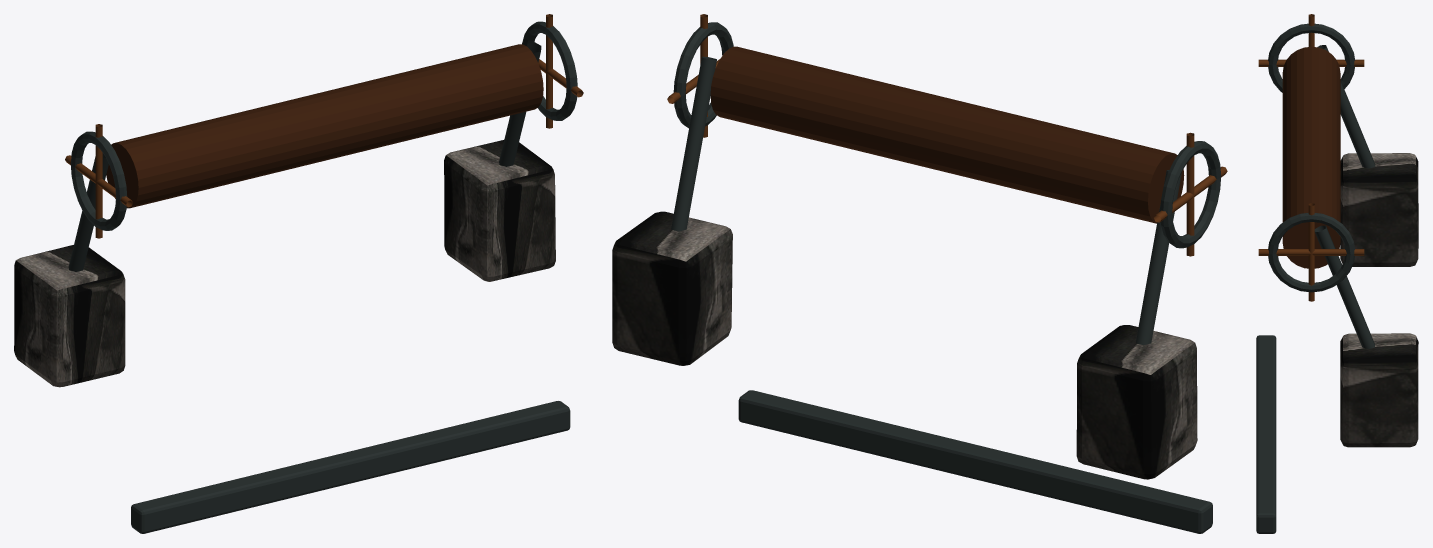
File: drawbridge_mechanism.glb
3 views of the same model, side by side, from view 1: azimuth 30°, elevation 25°; view 2: azimuth 150°, elevation 25°; view 3: azimuth 270°, elevation 25° (orthographic). The views are drawn at different scales.
Visible parts, largest first — view 1: DrawbridgeWinchDrum, DrawbridgeLockBar, DrawbridgeStoneCounterweight, DrawbridgeStoneCounterweight.001, DrawbridgeWinchWheel, DrawbridgeWinchWheel.001, DrawbridgeCounterweightArm, DrawbridgeCounterweightArm.001; view 2: DrawbridgeWinchDrum, DrawbridgeLockBar, DrawbridgeStoneCounterweight, DrawbridgeStoneCounterweight.001, DrawbridgeCounterweightArm.001, DrawbridgeWinchWheel, DrawbridgeCounterweightArm, DrawbridgeWinchWheel.001; view 3: DrawbridgeWinchDrum, DrawbridgeStoneCounterweight.001, DrawbridgeStoneCounterweight, DrawbridgeLockBar, DrawbridgeWinchWheel.001, DrawbridgeWinchWheel, DrawbridgeCounterweightArm.001, DrawbridgeCounterweightArm, DrawbridgeWinchHandle.004, DrawbridgeWinchHandle.006, DrawbridgeWinchHandle.005, DrawbridgeWinchHandle.007.
Boxes of the visible parts, <box> form: DrawbridgeWinchDrum: <box>106,44,543,208</box>; DrawbridgeLockBar: <box>131,401,570,533</box>; DrawbridgeStoneCounterweight: <box>14,245,125,387</box>; DrawbridgeStoneCounterweight.001: <box>444,140,555,281</box>; DrawbridgeWinchWheel: <box>70,131,127,230</box>; DrawbridgeWinchWheel.001: <box>522,21,577,120</box>; DrawbridgeCounterweightArm: <box>68,153,108,271</box>; DrawbridgeCounterweightArm.001: <box>499,42,541,166</box>; DrawbridgeWinchDrum: <box>710,46,1184,223</box>; DrawbridgeLockBar: <box>738,390,1212,533</box>; DrawbridgeStoneCounterweight: <box>1076,325,1197,479</box>; DrawbridgeStoneCounterweight.001: <box>612,211,732,365</box>; DrawbridgeCounterweightArm.001: <box>671,56,716,231</box>; DrawbridgeWinchWheel: <box>1160,141,1221,248</box>; DrawbridgeCounterweightArm: <box>1136,170,1181,345</box>; DrawbridgeWinchWheel.001: <box>673,22,733,128</box>; DrawbridgeWinchDrum: <box>1282,46,1340,268</box>; DrawbridgeStoneCounterweight.001: <box>1340,333,1418,447</box>; DrawbridgeStoneCounterweight: <box>1340,153,1418,266</box>; DrawbridgeLockBar: <box>1256,335,1276,533</box>; DrawbridgeWinchWheel.001: <box>1268,212,1354,292</box>; DrawbridgeWinchWheel: <box>1268,23,1354,92</box>; DrawbridgeCounterweightArm.001: <box>1314,225,1374,348</box>; DrawbridgeCounterweightArm: <box>1317,45,1375,168</box>; DrawbridgeWinchHandle.004: <box>1312,249,1364,255</box>; DrawbridgeWinchHandle.006: <box>1258,249,1311,255</box>; DrawbridgeWinchHandle.005: <box>1308,203,1314,253</box>; DrawbridgeWinchHandle.007: <box>1308,254,1314,301</box>.
Size of the model in its own units: 3.99 by 2.94 by 1.29.
Materials: 4 (1 with a texture image).
